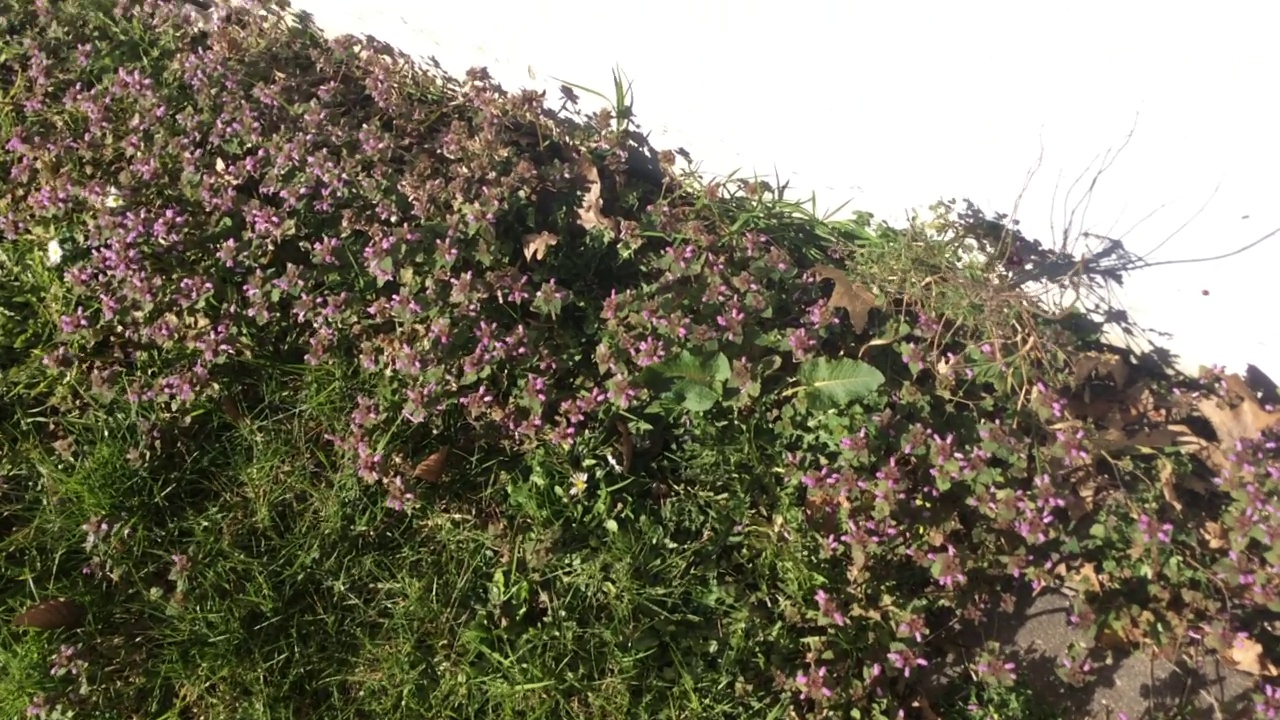rumex: (627, 351, 885, 413)
